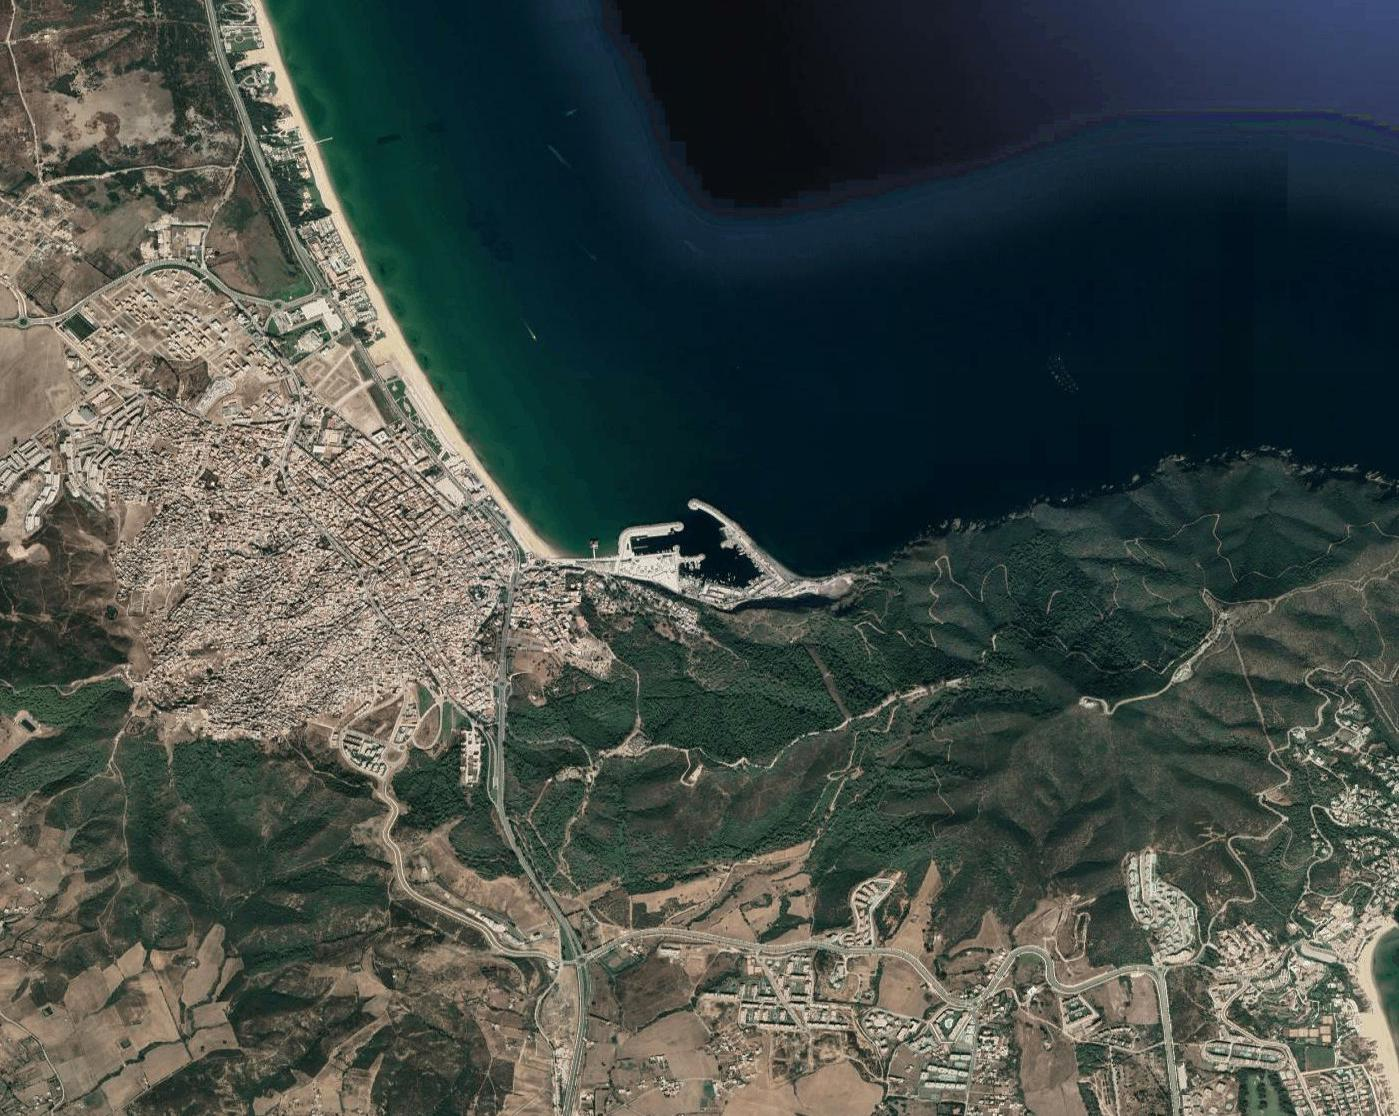harbor: (593, 497, 784, 602)
